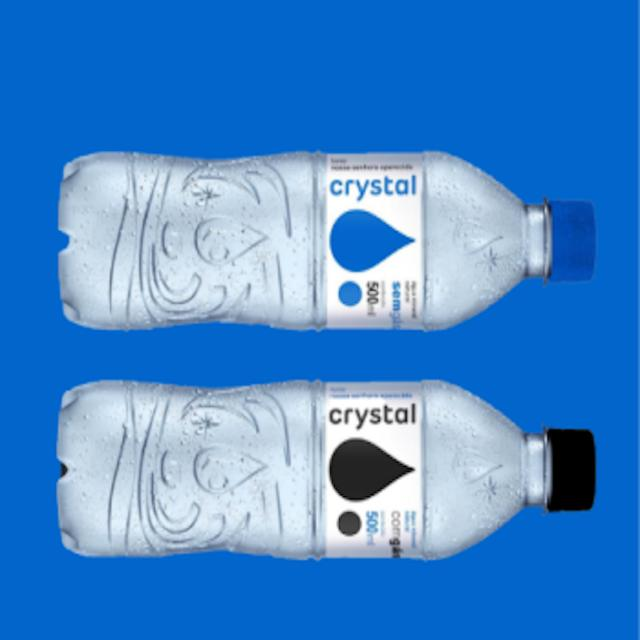bottle: (58, 380, 595, 559), (59, 152, 595, 329)
